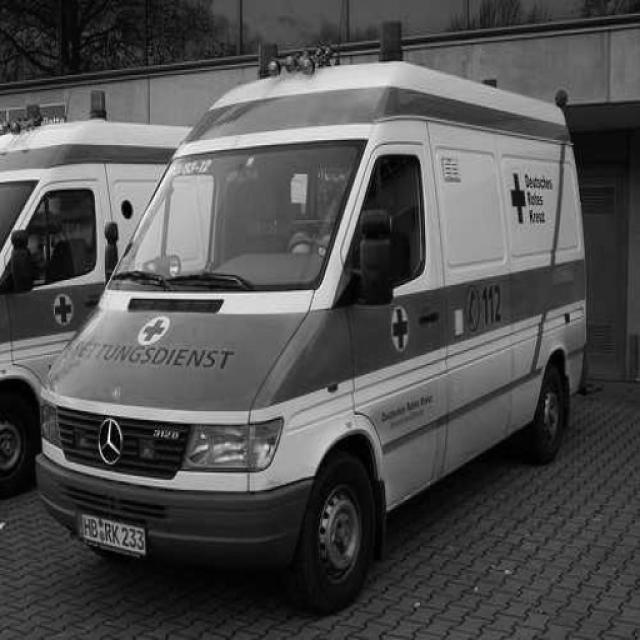Ambulance: (32, 60, 590, 616), (0, 88, 189, 494)
